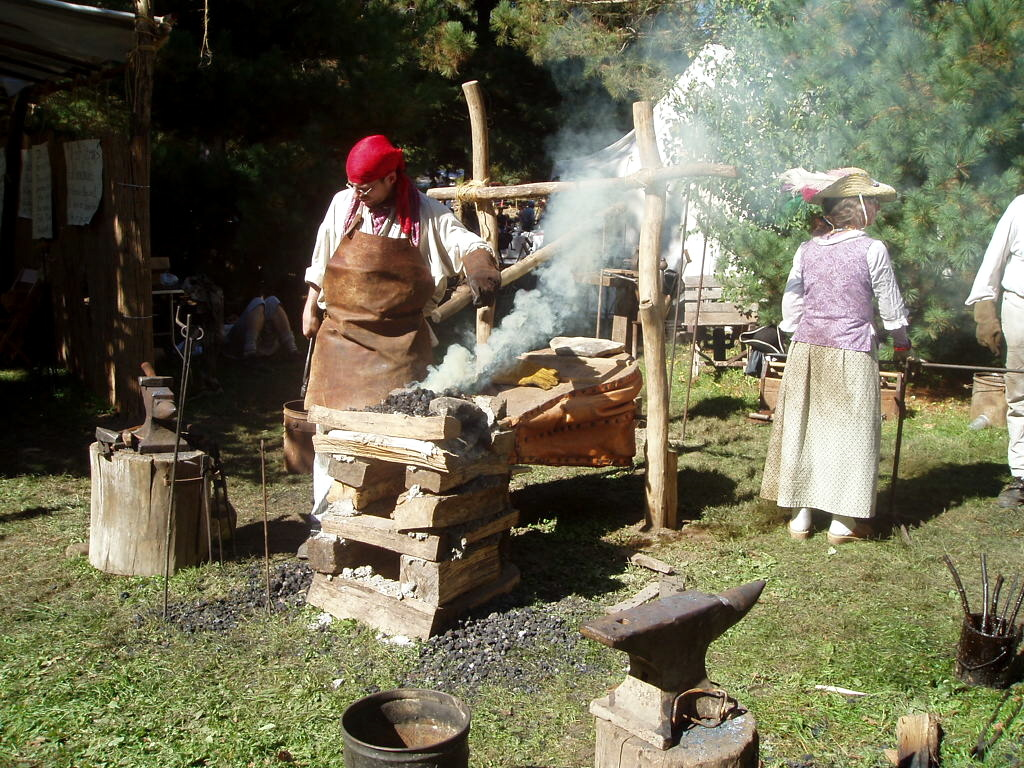Tree: (0, 0, 1022, 425)
